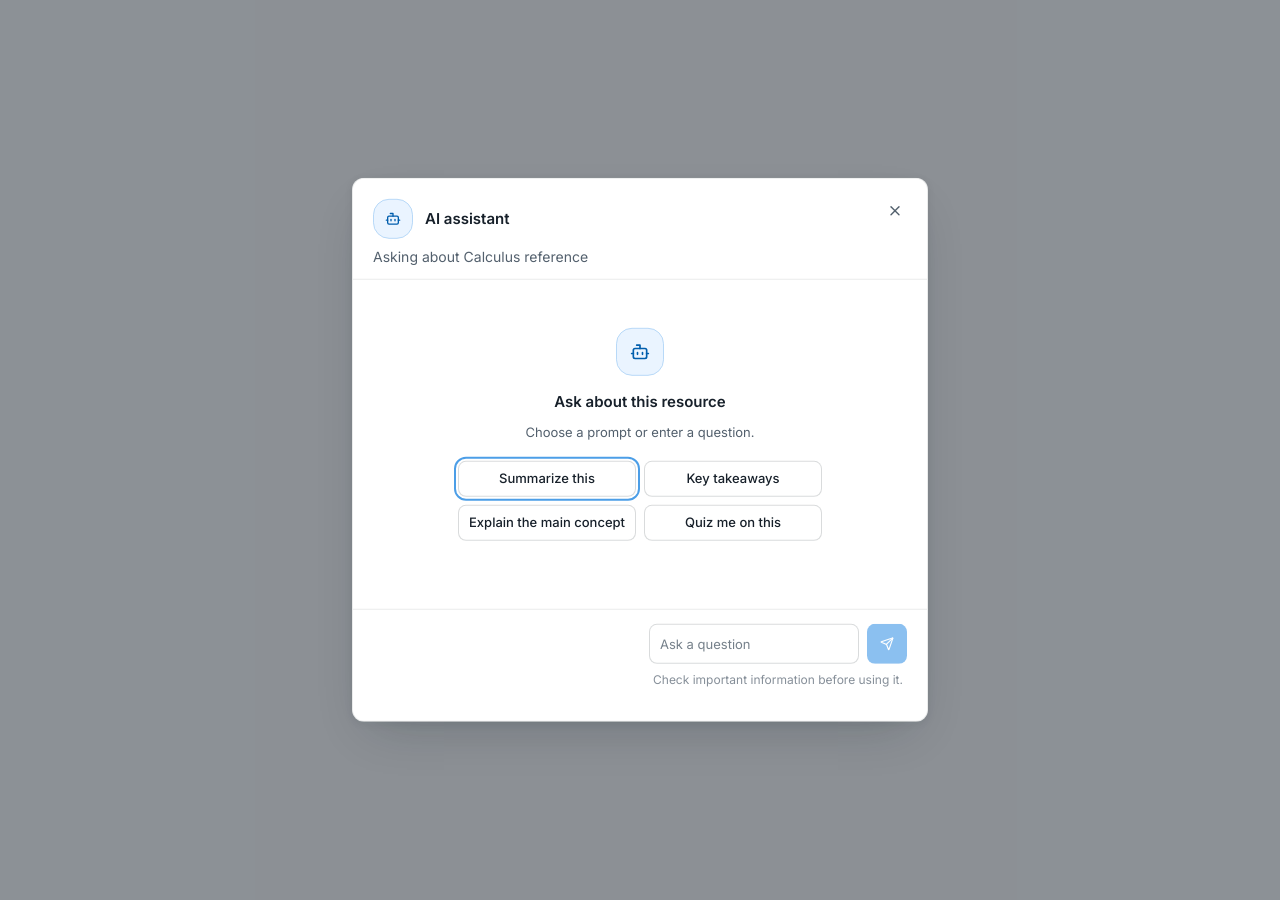
it: AIChatDialog › shows error message and allows retry
This screenshot has width=1280, height=900.
Click the button "Summarize this": coordinates (547, 479) [458, 461, 636, 497]
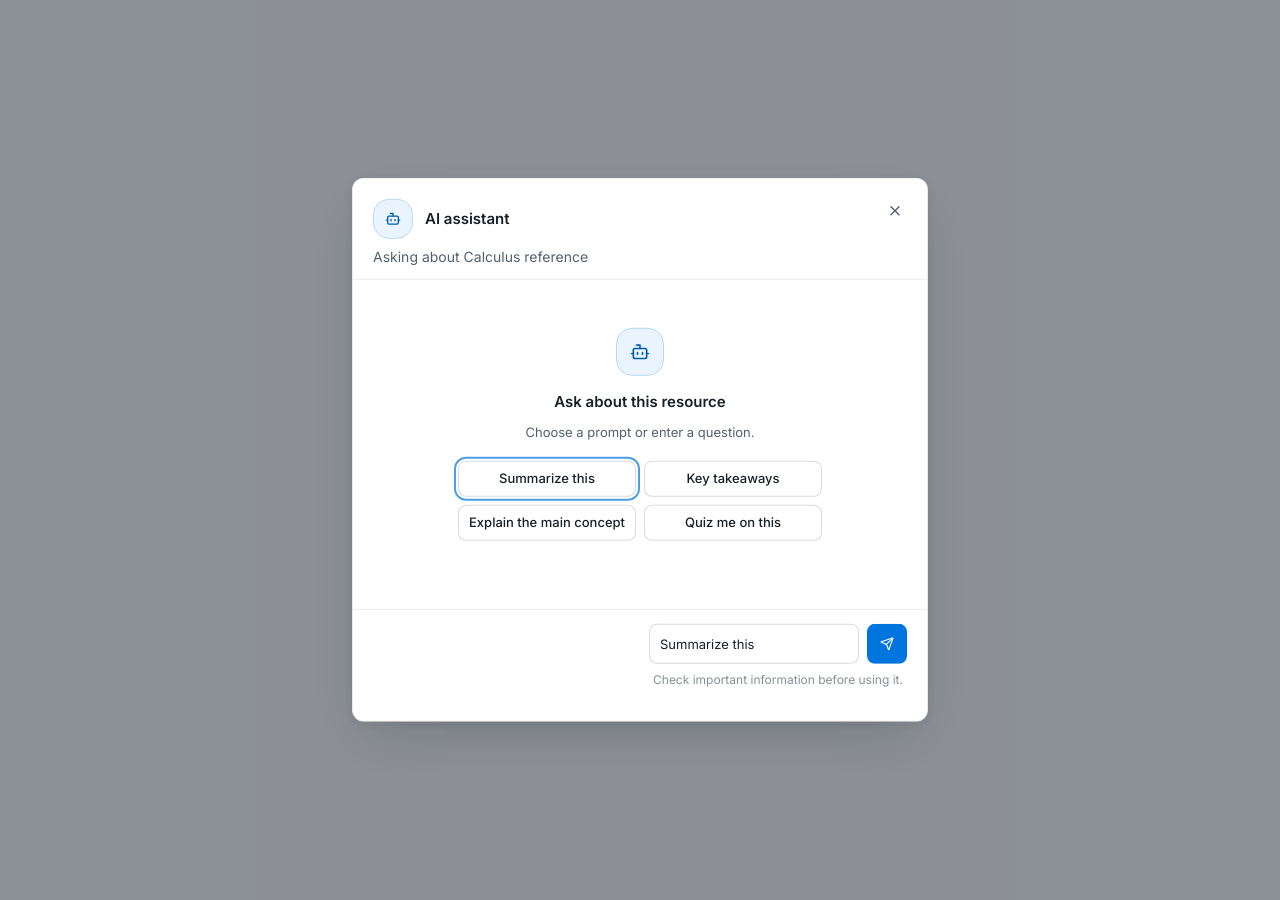
Click the button named "Send message": coordinates (887, 644) [867, 624, 907, 664]
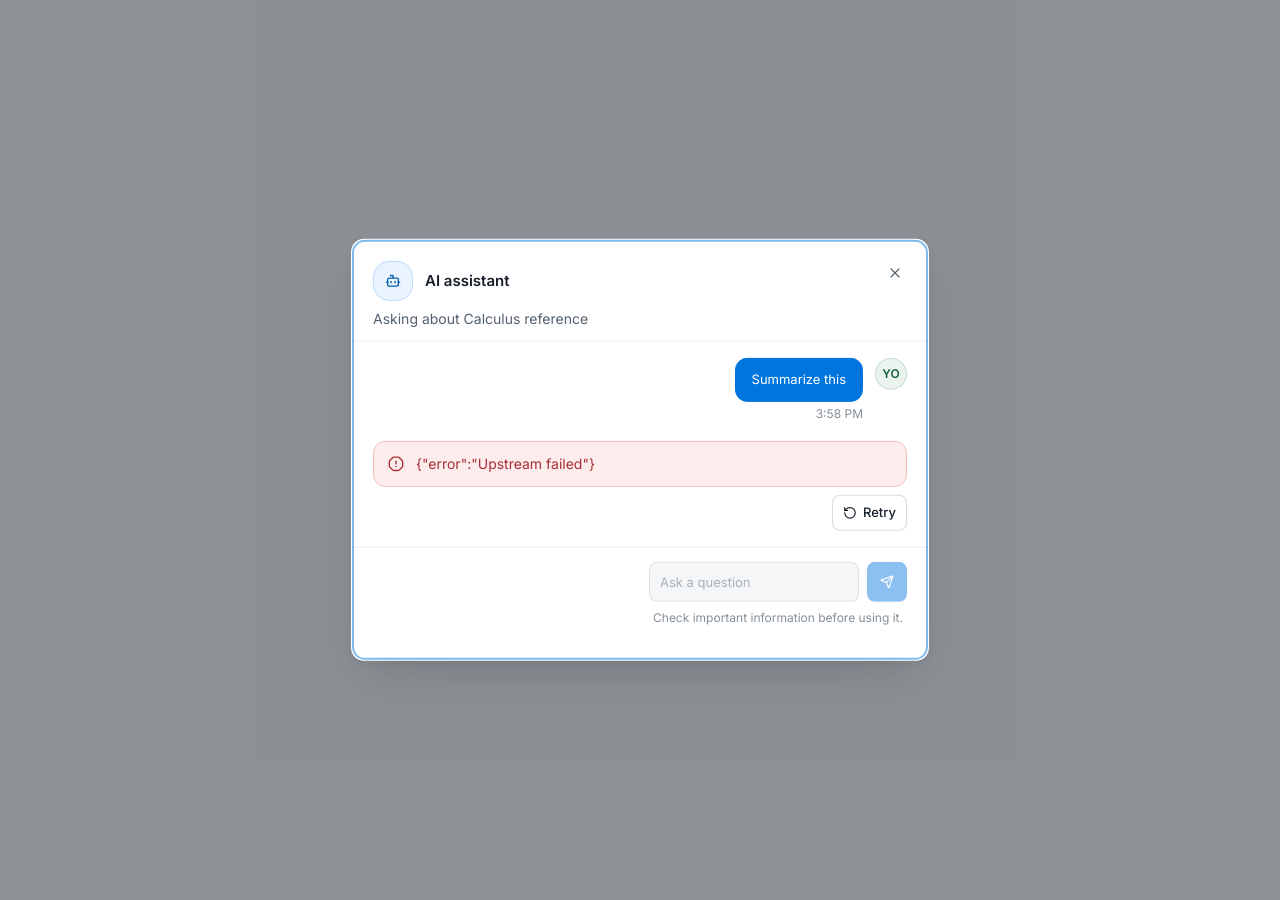
expect the message "{\"error\":\"Upstream failed\"}" is shown: met, box [373, 441, 907, 487]
Click the button "Retry": coordinates (870, 513) [832, 495, 907, 531]
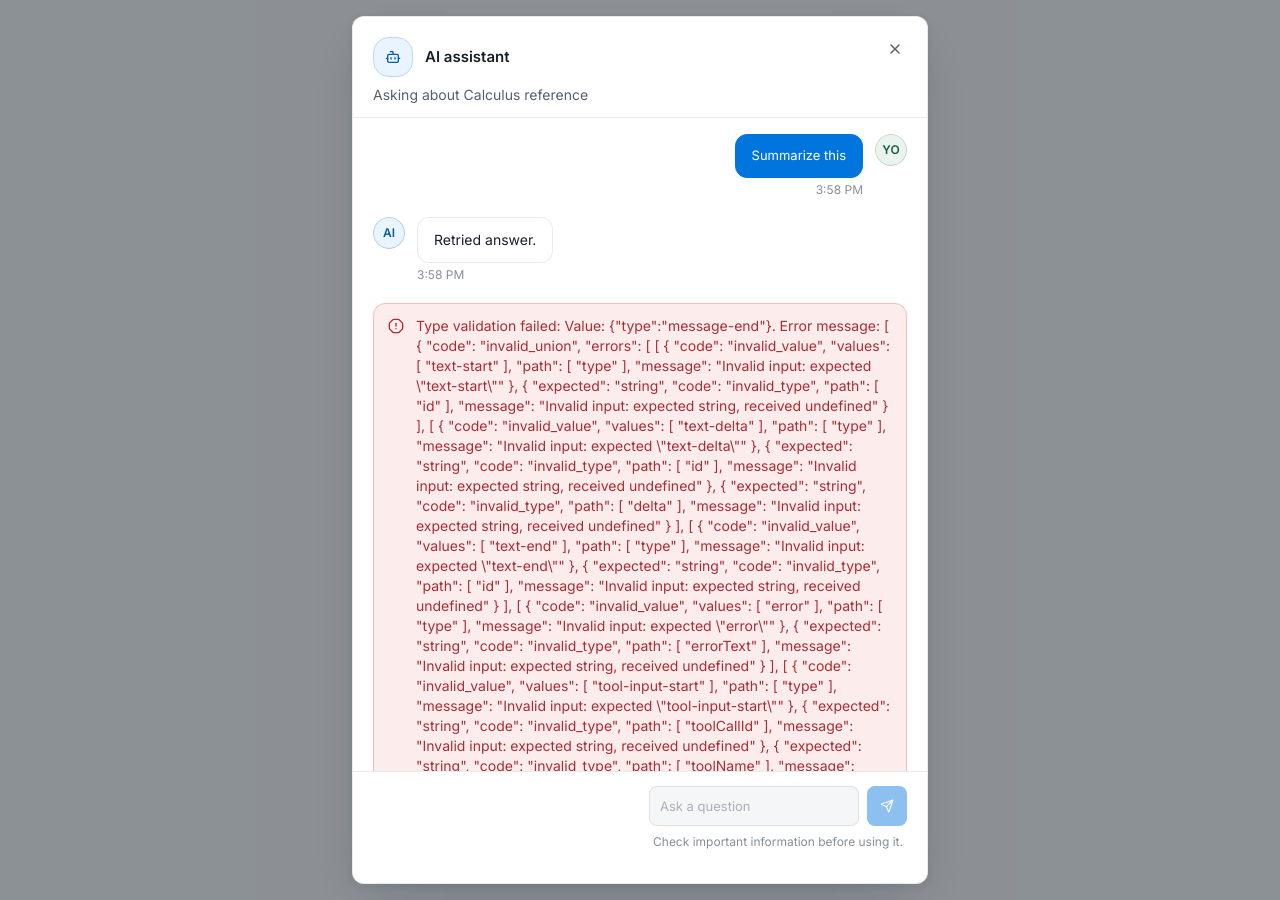
expect the text "Retried answer." is shown: met, box [434, 230, 536, 250]
